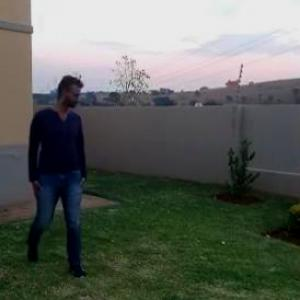follow: (27, 64, 104, 291)
